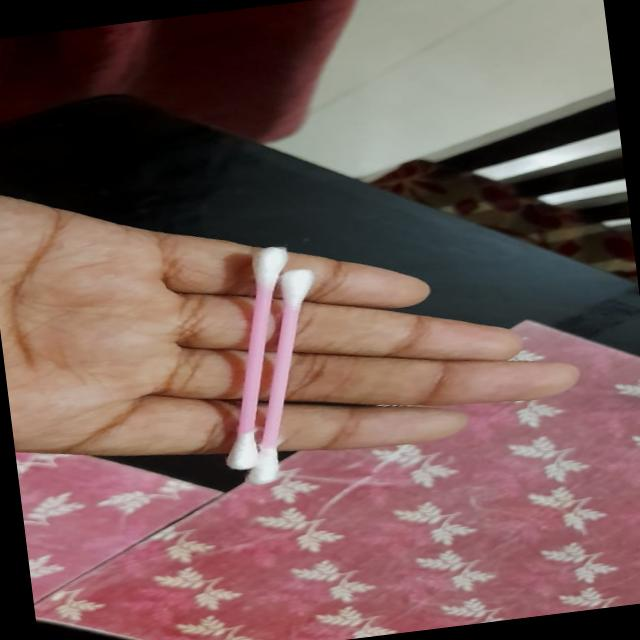Earbud - Non Recyclable: (195, 240, 340, 488)
